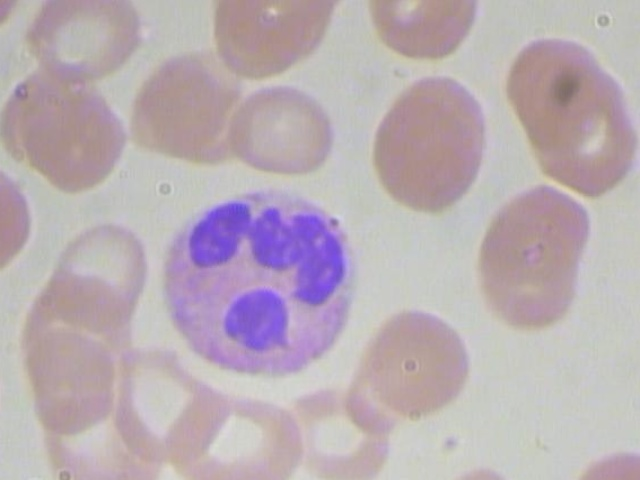RBC: (474, 172, 593, 339), (363, 71, 497, 214), (85, 338, 230, 463), (500, 21, 615, 147), (357, 299, 472, 417), (158, 390, 308, 480), (41, 219, 163, 316), (223, 79, 345, 175), (19, 0, 147, 90), (287, 376, 389, 480), (0, 157, 43, 283), (567, 437, 640, 480), (433, 457, 520, 480)
WBC: (141, 182, 367, 381)
